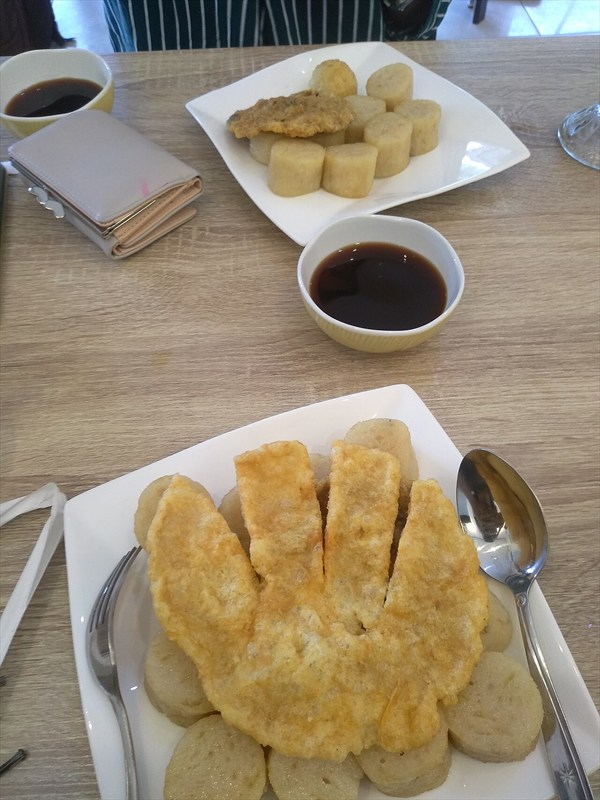Pempek: (39, 16, 524, 661)
